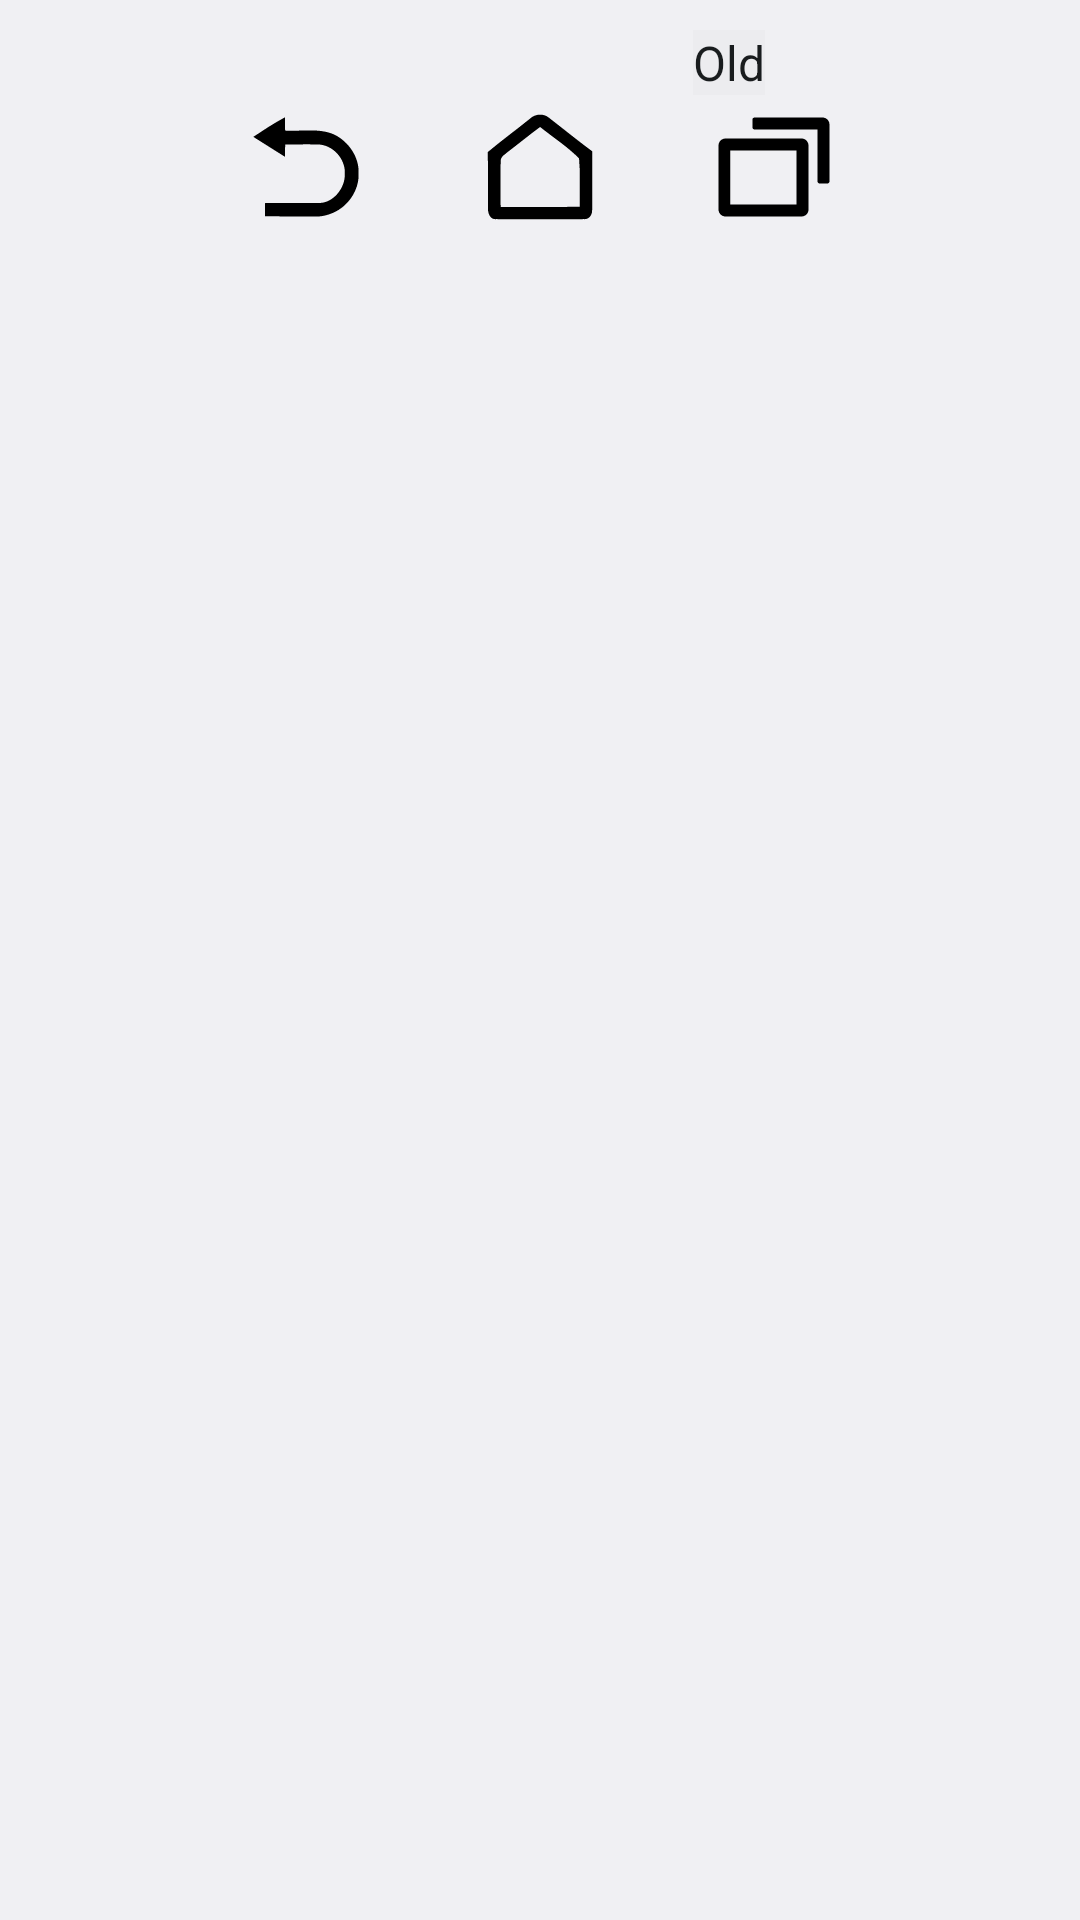

Named icons in this screenshot (1080x1920) and their centers, [x,y]:
navbar old back: [306,167]
navbar old home: [540,167]
navbar old recents: [774,167]
